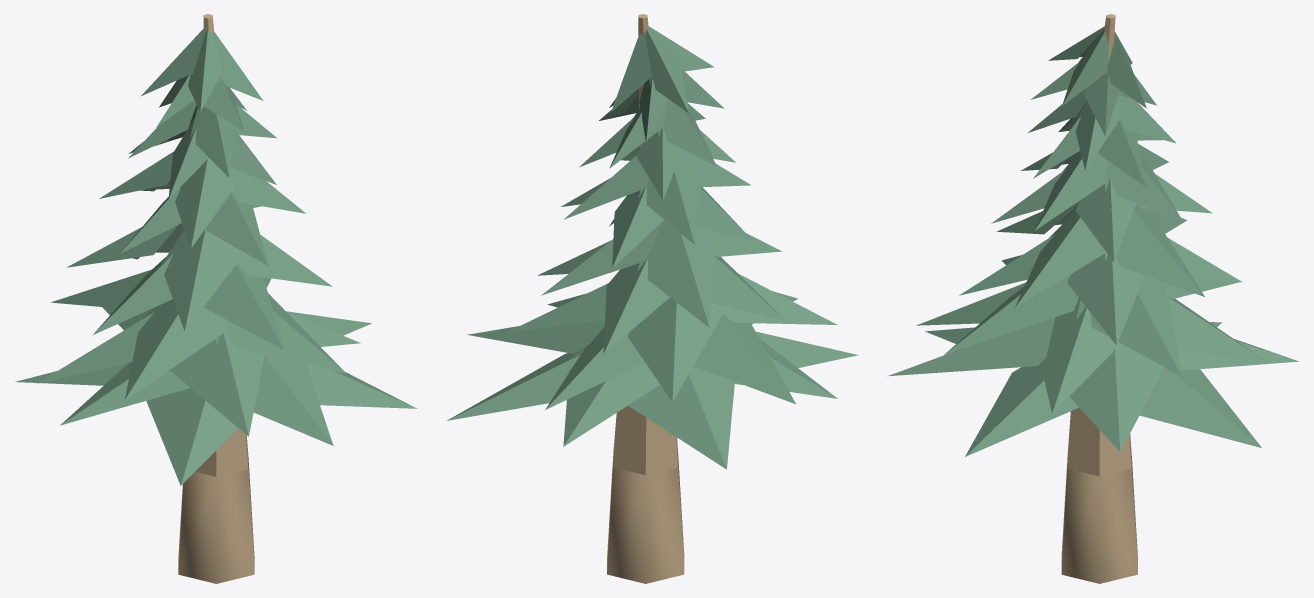
The model's file is Tree.fbx.
The picture shows the model from 3 angles, left to right: view 1: azimuth 30°, elevation 25°; view 2: azimuth 150°, elevation 25°; view 3: azimuth 270°, elevation 25°; orthographic projection.
Visible parts, largest first — view 1: Feuille, Cylinder; view 2: Feuille, Cylinder; view 3: Feuille, Cylinder.
Boxes of the visible parts, x1=… form: Feuille: x1=15, y1=29, x2=417, y2=485; Cylinder: x1=178, y1=14, x2=254, y2=583; Feuille: x1=446, y1=26, x2=858, y2=469; Cylinder: x1=607, y1=14, x2=684, y2=583; Feuille: x1=887, y1=26, x2=1298, y2=456; Cylinder: x1=1061, y1=14, x2=1137, y2=583.
Size of the model in its own units: 545 by 837 by 572.
